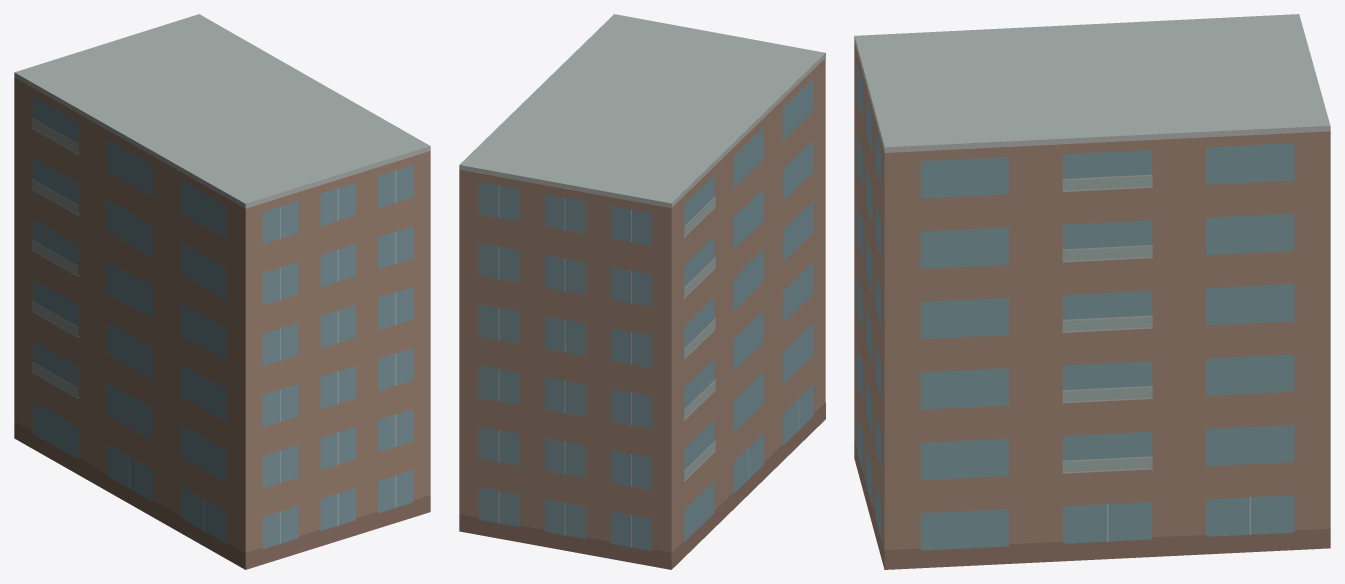
File: survey-upis-33014334.glb
3 renders of one model, left to right at view 1: azimuth 30°, elevation 25°; view 2: azimuth 150°, elevation 25°; view 3: azimuth 270°, elevation 25°, orthographic. The views are drawn at different scales.
Visible parts, largest first — view 1: survey-upis-33014334.tmp; view 2: survey-upis-33014334.tmp; view 3: survey-upis-33014334.tmp.
Boxes of the visible parts, x1=… form: survey-upis-33014334.tmp: x1=14, y1=14, x2=430, y2=569; survey-upis-33014334.tmp: x1=459, y1=14, x2=825, y2=569; survey-upis-33014334.tmp: x1=854, y1=14, x2=1330, y2=569.
Size of the model in its own units: 12.53 by 18.5 by 18.9.
